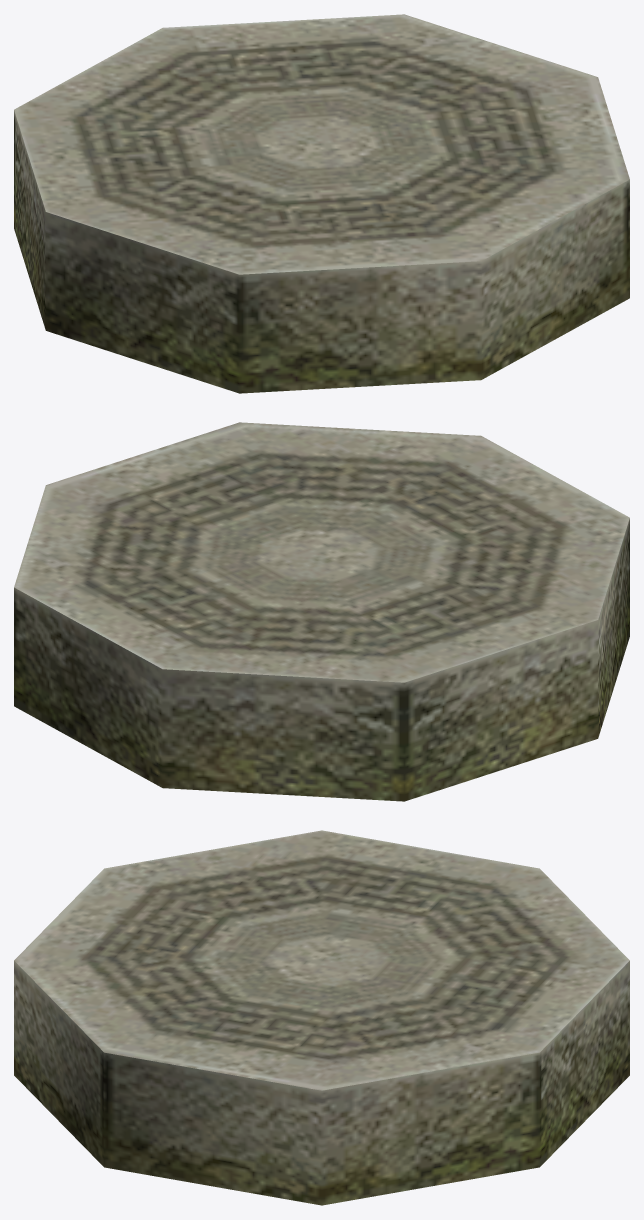
Rendered from secret_boundary_ston_00.fbx.
3 views of the same model, one above another, from view 1: azimuth 30°, elevation 25°; view 2: azimuth 150°, elevation 25°; view 3: azimuth 270°, elevation 25° (orthographic). The views are drawn at different scales.
Parts seen in each view (by area): view 1: secret_boundary ston_00; view 2: secret_boundary ston_00; view 3: secret_boundary ston_00.
Part boxes in pixels (x1,y1,x2,y2): secret_boundary ston_00: (14,14,629,393); secret_boundary ston_00: (14,422,629,801); secret_boundary ston_00: (14,830,629,1205).
Bounding box in the file's own units: 1.59 × 0.3266 × 1.59.
